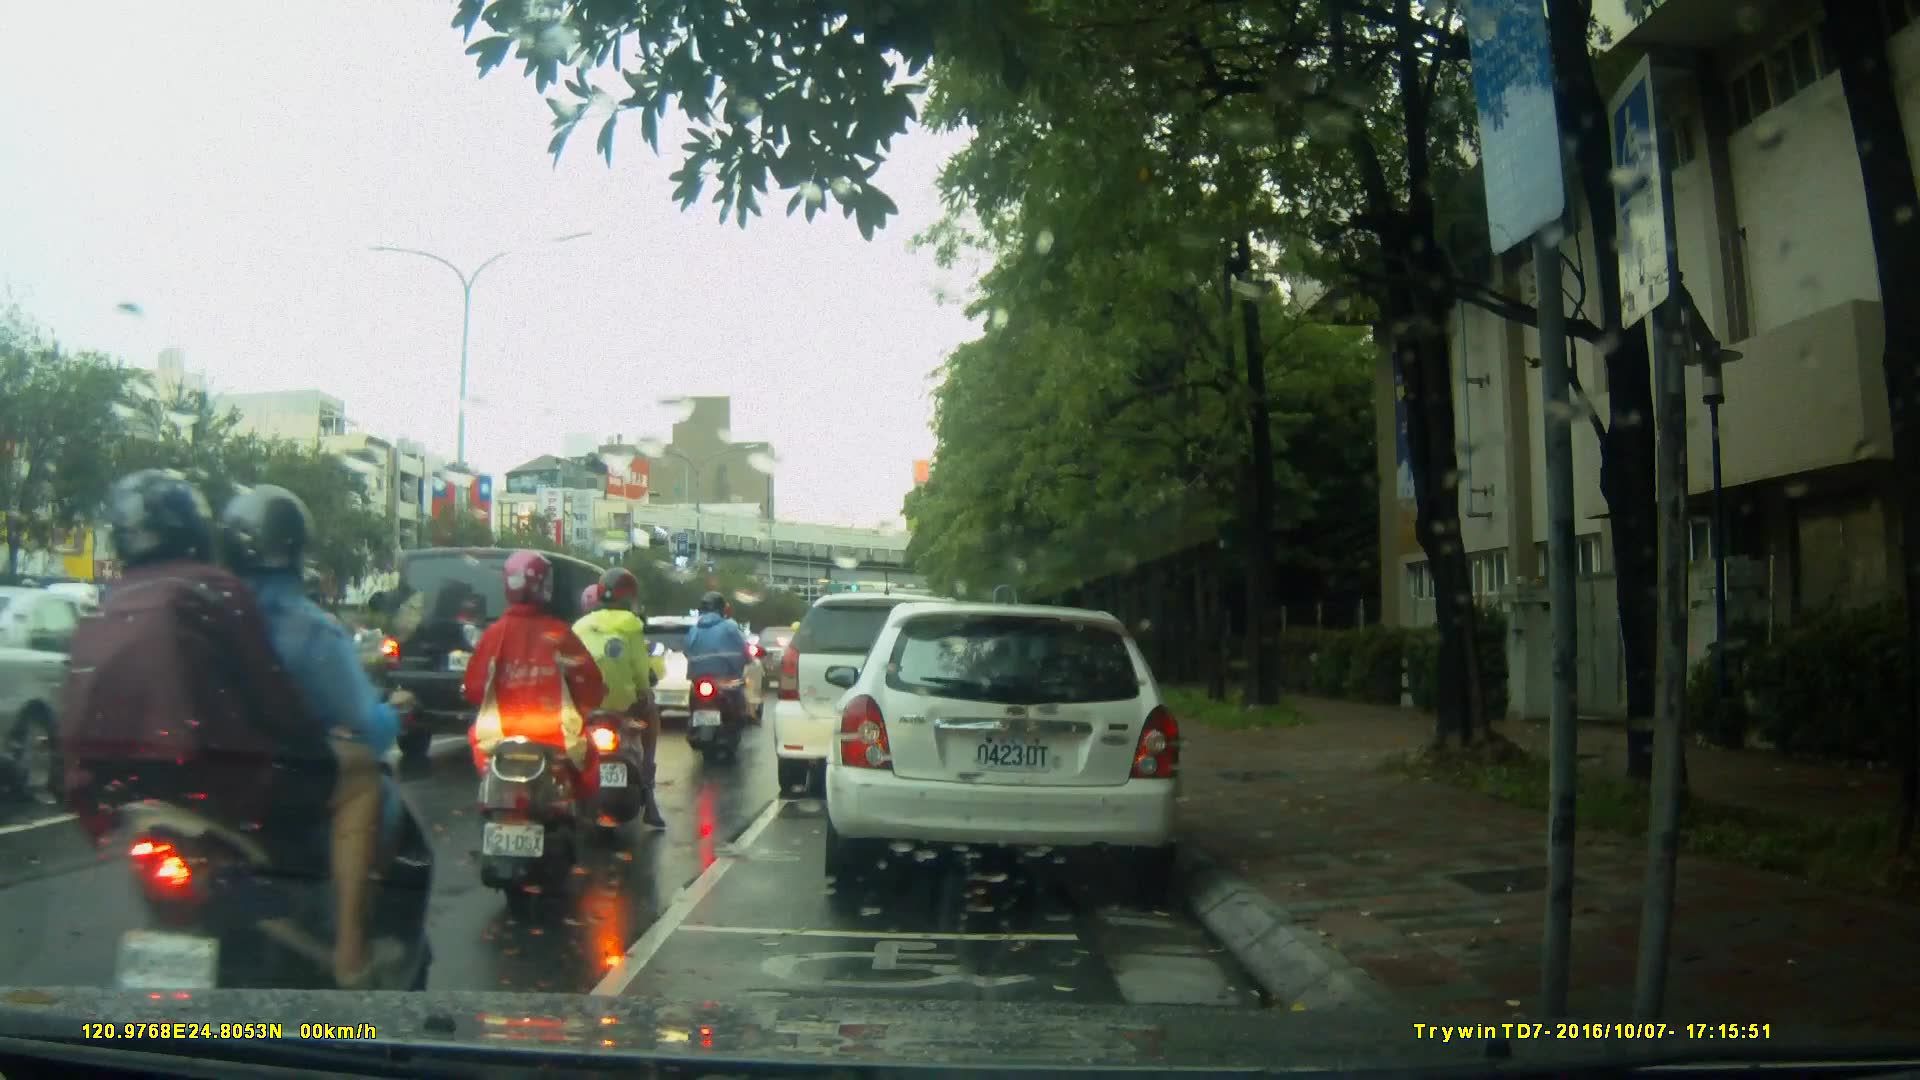rider: (52, 474, 415, 1030), (463, 547, 615, 919), (217, 565, 380, 811), (568, 568, 681, 838), (590, 595, 668, 810), (679, 592, 756, 759)
vehicle: (822, 604, 1188, 883), (381, 545, 653, 766), (774, 595, 995, 802)
